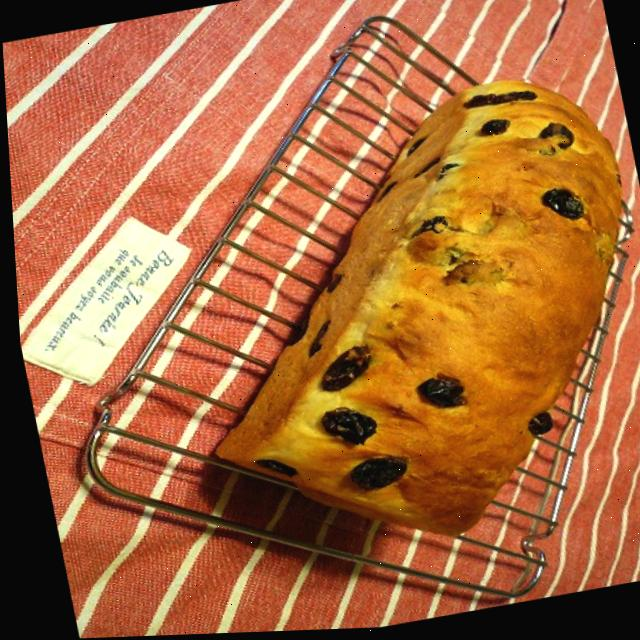面包点心: (170, 42, 640, 568)
